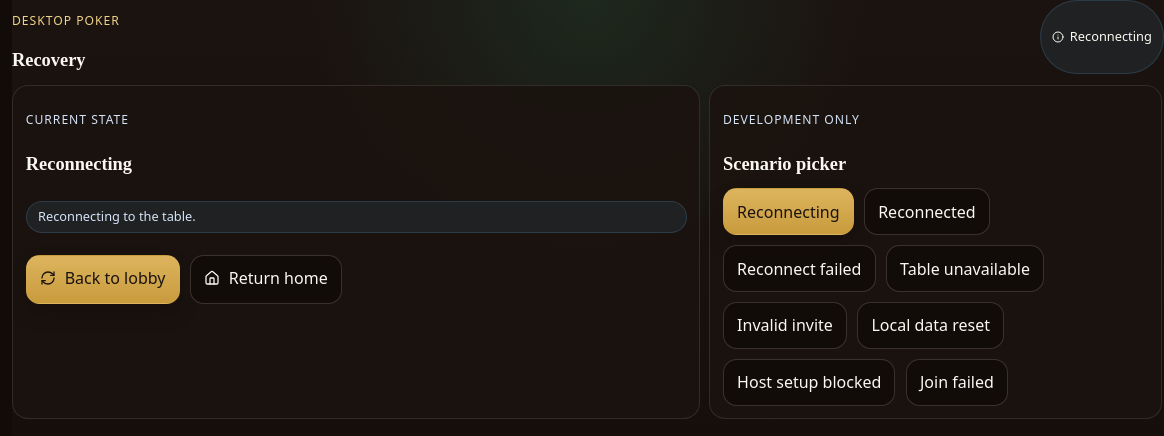
Test: ErrorStateScreen › exposes the reconnect recovery path with clear next actions
The width and height of the screenshot is (1164, 436).
Click the button "Reconnected" at [927, 212], box [864,188,990,235]
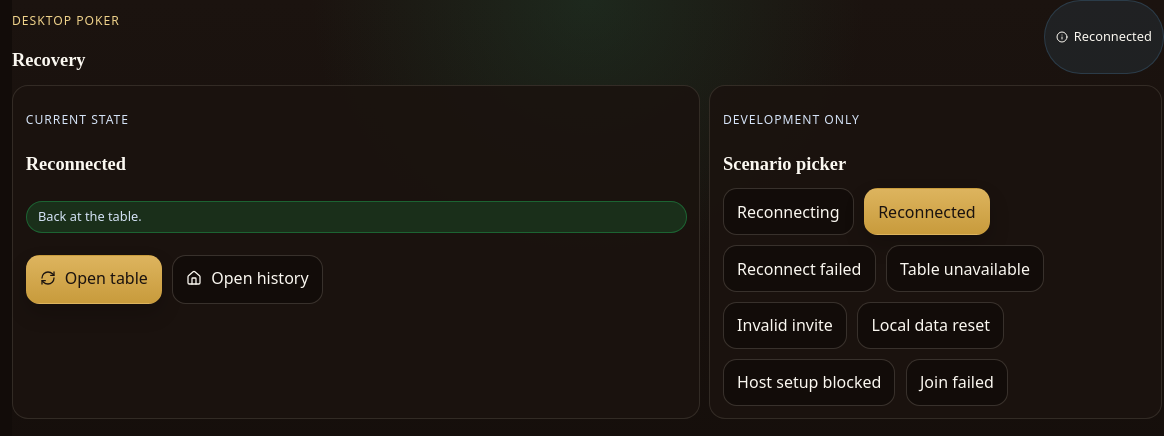
Check: the text "Back at the table." is shown, box [26,201,687,233]
Check: the link "Open table" is shown, box [26,255,162,304]
Check: the link "Open history" is shown, box [172,255,323,304]
